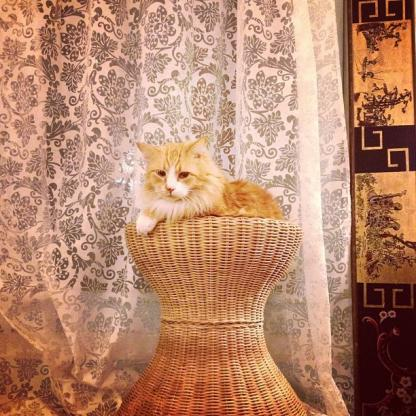Target: (128, 135, 286, 236)
